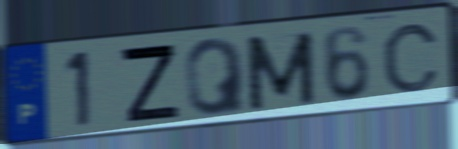1: (62, 48, 93, 132)
6: (320, 23, 371, 104)
C: (379, 21, 443, 96)
M: (242, 28, 318, 113)
Q: (182, 35, 249, 119)
Z: (116, 41, 182, 125)
